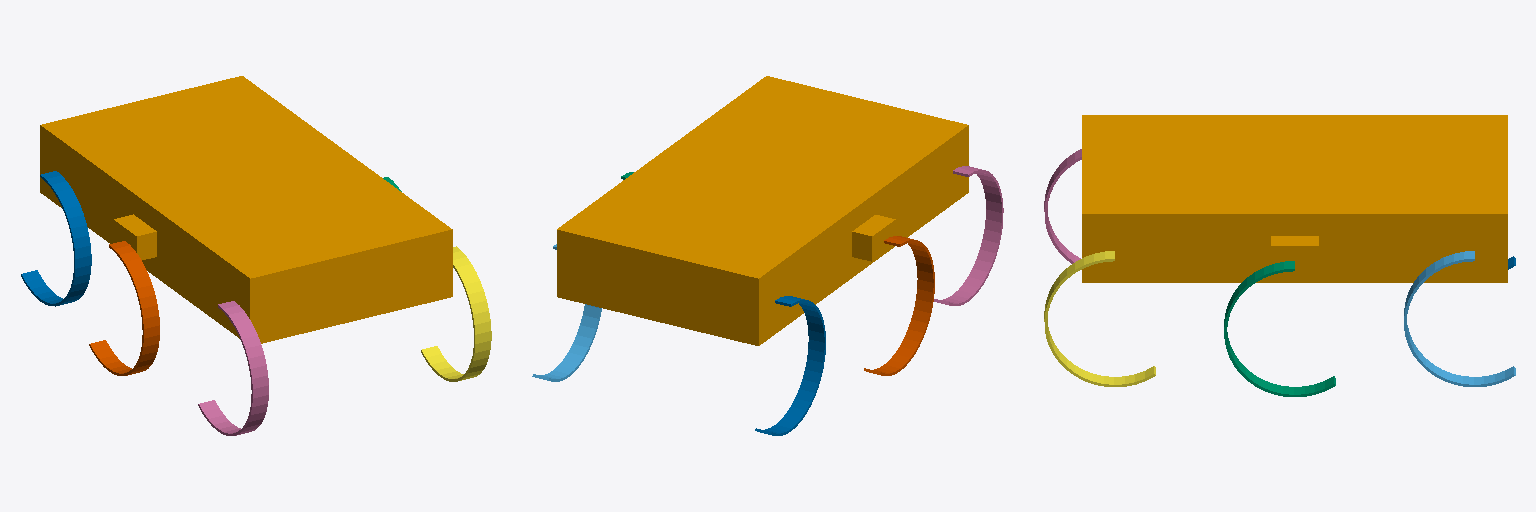
URDF robot description (SimpHex):
<?xml version='1.0'?>
<robot name="SimpHex">
  <link name="body">

    <inertial>
      <mass value="4.4" />
      <inertia ixx=".0766"  ixy="0"  ixz="0" iyy=".0253" iyz="0" izz=".0972" />
    </inertial>

    <collision name="collision1">
      <origin xyz="0 0 0" rpy="0 0 0" />
      <geometry>
        <box size="0.25 0.45 0.08" />
      </geometry>
    </collision>
    
    <visual name="visual1">
      <origin xyz="0 0 0" rpy="0 0 0" />
      <geometry>
        <box size="0.25 0.45 0.08" />
      </geometry>
    </visual>

    <collision name="collision2">
      <origin xyz=".1375 0 0" rpy="0 0 0" />
      <geometry>
        <box size="0.025 0.05 0.03" />
      </geometry>
    </collision>

    <visual name="visual2">
      <origin xyz=".1375 0 0" rpy="0 0 0" />
      <geometry>
        <box size="0.025 0.05 0.03" />
      </geometry>
    </visual>

    <collision name="collision3">
      <origin xyz="-.1375 0 0" rpy="0 0 0" />
      <geometry>
        <box size="0.025 0.05 0.03" />
      </geometry>
    </collision>

    <visual name="visual3">
      <origin xyz="-.1375 0 0" rpy="0 0 0" />
      <geometry>
        <box size="0.025 0.05 0.03" />
      </geometry>
    </visual>
  
  </link>
  <link name="leg_1">

    <inertial>
      <mass value="0.05" />
      <inertia ixx="0"  ixy="0"  ixz="0" iyy="0" iyz="0" izz="0" />
    </inertial>

    <collision name="collision">
      <origin xyz=".15 .19 0" rpy="0 3.14 0" />
      <geometry>
        <mesh filename="package://simphex_description/meshes/simpLeg12.STL" scale="0.01 0.01 0.01"/>
      </geometry>
    </collision>
    
    <visual name="visual">
      <origin xyz=".15 .19 0" rpy="0 3.14 0" />
      <geometry>
        <mesh filename="package://simphex_description/meshes/simpLeg12.STL" scale="0.01 0.01 0.01"/>
      </geometry>
    </visual>

  </link>

  <link name="leg_2">

    <inertial>
      <mass value="0.05" />
      <inertia ixx="0"  ixy="0"  ixz="0" iyy="0" iyz="0" izz="0" />
    </inertial>

    <collision name="collision">
      <origin xyz=".175 0 0" rpy="0 3.14 0" />
      <geometry>
        <mesh filename="package://simphex_description/meshes/simpLeg12.STL" scale="0.01 0.01 0.01"/>
      </geometry>
    </collision>
    
    <visual name="visual">
      <origin xyz=".175 0 0" rpy="0 3.14 0" />
      <geometry>
        <mesh filename="package://simphex_description/meshes/simpLeg12.STL" scale="0.01 0.01 0.01"/>
      </geometry>
    </visual>

  </link>

  <link name="leg_3">

    <inertial>
      <mass value="0.05" />
      <inertia ixx="0"  ixy="0"  ixz="0" iyy="0" iyz="0" izz="0" />
    </inertial>

    <collision name="collision">
      <origin xyz=".15 -.19 0" rpy="0 3.14 0" />
      <geometry>
        <mesh filename="package://simphex_description/meshes/simpLeg12.STL" scale="0.01 0.01 0.01"/>
      </geometry>
    </collision>
    
    <visual name="visual">
      <origin xyz=".15 -.19 0" rpy="0 3.14 0" />
      <geometry>
        <mesh filename="package://simphex_description/meshes/simpLeg12.STL" scale="0.01 0.01 0.01"/>
      </geometry>
    </visual>

  </link>

  <link name="leg_4">

    <inertial>
      <mass value="0.05" />
      <inertia ixx="0"  ixy="0"  ixz="0" iyy="0" iyz="0" izz="0" />
    </inertial>

    <collision name="collision">
      <origin xyz="-.125 .19 0" rpy="0 3.14 0" />
      <geometry>
        <mesh filename="package://simphex_description/meshes/simpLeg12.STL" scale="0.01 0.01 0.01"/>
      </geometry>
    </collision>
    
    <visual name="visual">
      <origin xyz="-.125 .19 0" rpy="0 3.14 0" />
      <geometry>
        <mesh filename="package://simphex_description/meshes/simpLeg12.STL" scale="0.01 0.01 0.01"/>
      </geometry>
    </visual>

  </link>

  <link name="leg_5">

    <inertial>
      <mass value="0.05" />
      <inertia ixx="0"  ixy="0"  ixz="0" iyy="0" iyz="0" izz="0" />
    </inertial>

    <collision name="collision">
      <origin xyz="-.15 0 0" rpy="0 3.14 0" />
      <geometry>
        <mesh filename="package://simphex_description/meshes/simpLeg12.STL" scale="0.01 0.01 0.01"/>
      </geometry>
    </collision>
    
    <visual name="visual">
      <origin xyz="-.15 0 0" rpy="0 3.14 0" />
      <geometry>
        <mesh filename="package://simphex_description/meshes/simpLeg12.STL" scale="0.01 0.01 0.01"/>
      </geometry>
    </visual>

  </link>

  <link name="leg_6">

    <inertial>
      <mass value="0.05" />
      <inertia ixx="0"  ixy="0"  ixz="0" iyy="0" iyz="0" izz="0" />
    </inertial>

    <collision name="collision">
      <origin xyz="-.125 -.19 0" rpy="0 3.14 0" />
      <geometry>
        <mesh filename="package://simphex_description/meshes/simpLeg12.STL" scale="0.01 0.01 0.01"/>
      </geometry>
    </collision>
    
    <visual name="visual">
      <origin xyz="-.125 -.19 0" rpy="0 3.14 0" />
      <geometry>
        <mesh filename="package://simphex_description/meshes/simpLeg12.STL" scale="0.01 0.01 0.01"/>
      </geometry>
    </visual>

  </link>

  <joint type="continuous" name="leg_1_joint">
    <origin xyz="0 0 0" rpy="0 0 0" />
    <child link="leg_1" />
    <parent link="body" />
    <axis xyz="1 0 0" />
  </joint>

  <joint type="continuous" name="leg_2_joint">
    <origin xyz="0 0 0" rpy="0 0 0" />
    <child link="leg_2" />
    <parent link="body" />
    <axis xyz="1 0 0" />
  </joint>

  <joint type="continuous" name="leg_3_joint">
    <origin xyz="0 0 0" rpy="0 0 0" />
    <child link="leg_3" />
    <parent link="body" />
    <axis xyz="1 0 0" />
  </joint>

  <joint type="continuous" name="leg_4_joint">
    <origin xyz="0 0 0" rpy="0 0 0" />
    <child link="leg_4" />
    <parent link="body" />
    <axis xyz="1 0 0" />
  </joint>

  <joint type="continuous" name="leg_5_joint">
    <origin xyz="0 0 0" rpy="0 0 0" />
    <child link="leg_5" />
    <parent link="body" />
    <axis xyz="1 0 0" />
  </joint>

  <joint type="continuous" name="leg_6_joint">
    <origin xyz="0 0 0" rpy="0 0 0" />
    <child link="leg_6" />
    <parent link="body" />
    <axis xyz="1 0 0" />
  </joint>

  <transmission name="simple_trans">
    <type>transmission_interface/SimpleTransmission</type>
    <joint name="leg_1_joint">
      <hardwareInterface>EffortJointInterface</hardwareInterface>
    </joint>
    <actuator name="leg_1_motor">
      <mechanicalReduction>50</mechanicalReduction>
    </actuator>
  </transmission>
</robot>

--- Facts derived from the render (not from the file) ---
3 views of the same robot in one strip: view 1: azimuth 30°, elevation 25°; view 2: azimuth 150°, elevation 25°; view 3: azimuth 270°, elevation 25° (orthographic).
Robot: SimpHex — 7 links, 6 joints (6 continuous); root link body; default pose: every joint at zero.
Visible links, largest first — view 1: body, leg_4, leg_5, leg_6, leg_3; view 2: body, leg_5, leg_4, leg_6, leg_1; view 3: body, leg_2, leg_3, leg_1, leg_6.
Link boxes in pixels (x1,y1,x2,y2): body: (40,76,452,343); leg_4: (21,171,91,306); leg_5: (89,241,159,375); leg_6: (198,301,268,435); leg_3: (421,246,491,381); body: (557,76,968,345); leg_5: (864,236,934,375); leg_4: (755,296,825,435); leg_6: (934,166,1003,305); leg_1: (532,244,601,381); body: (1082,115,1507,282); leg_2: (1224,261,1335,396); leg_3: (1044,251,1155,386); leg_1: (1404,251,1515,386); leg_6: (1044,149,1081,263).
Size in the robot's own frame: 0.3452 by 0.4978 by 0.19 metres.
6 mesh visuals loaded from 1 distinct referenced files (1 binary STL).